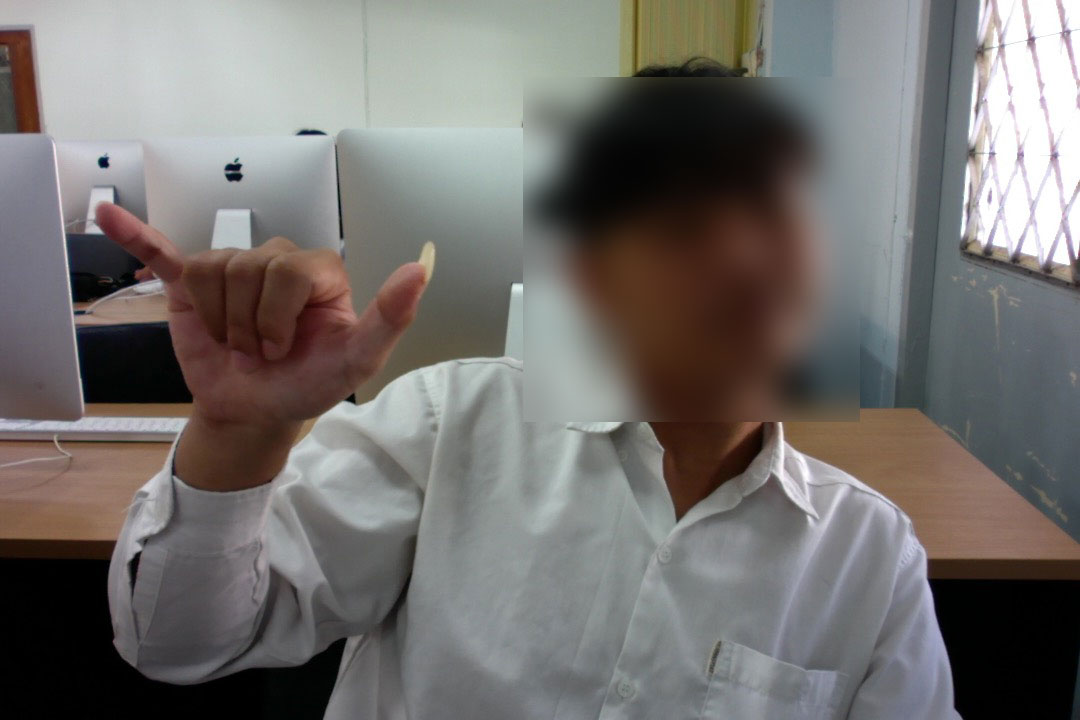yor: (86, 190, 444, 448)
